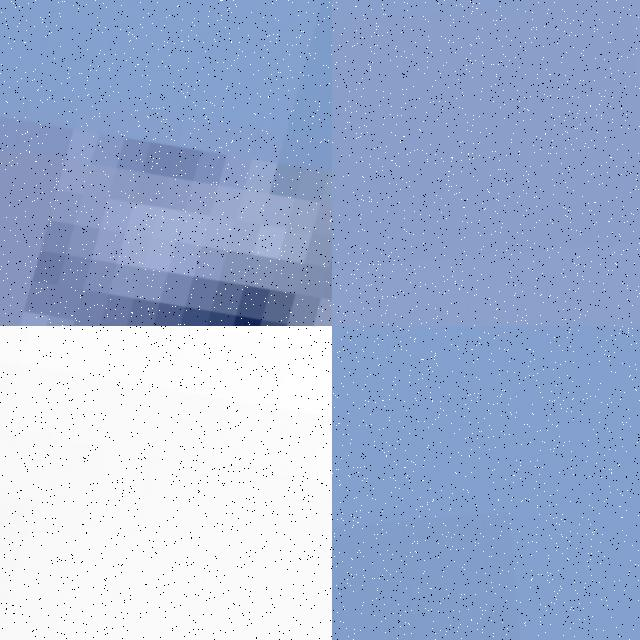0: (0, 0, 332, 326)
drone: (0, 326, 332, 640)
